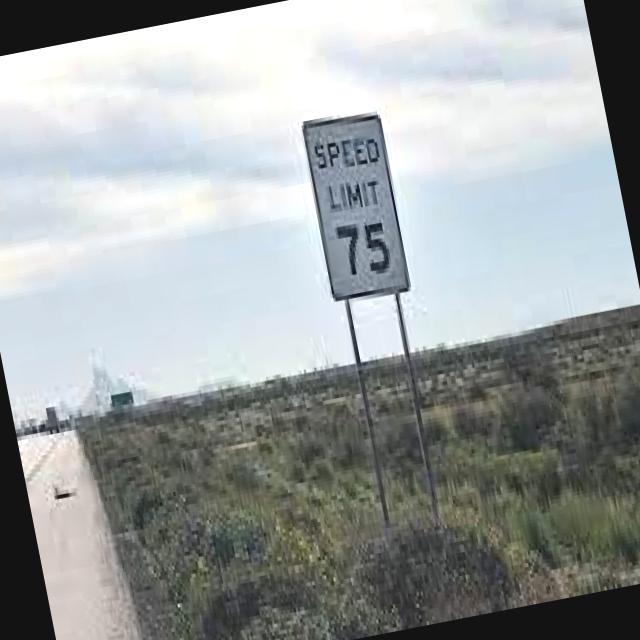Speed Limit Signs: (293, 99, 417, 310)
